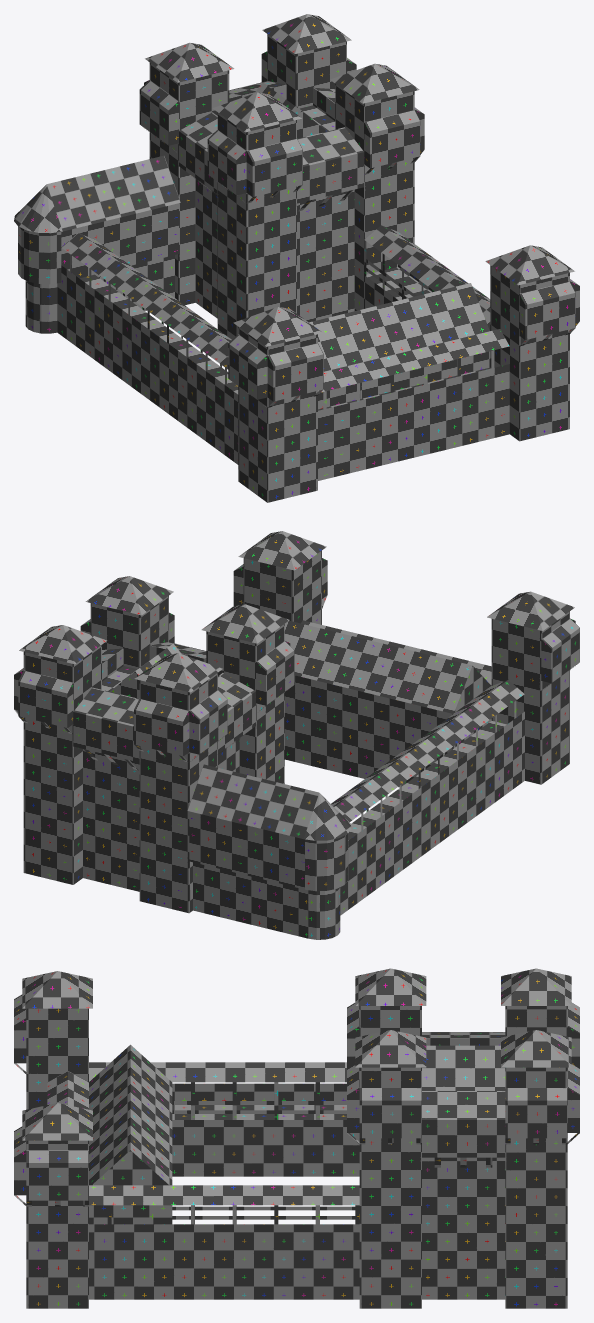
File: SM_Barracks.fbx
3 views of the same model, one above another, from view 1: azimuth 30°, elevation 25°; view 2: azimuth 150°, elevation 25°; view 3: azimuth 270°, elevation 25° (orthographic). The views are drawn at different scales.
Parts seen in each view (by area): view 1: Barracks_03; view 2: Barracks_03; view 3: Barracks_03.
Part boxes in pixels (<box>): Barracks_03: <box>14,14,579,502</box>; Barracks_03: <box>14,531,579,939</box>; Barracks_03: <box>14,968,579,1308</box>.
Bounding box in the file's own units: 482 × 352 × 680.
Materials: 1 (1 with a texture image).
